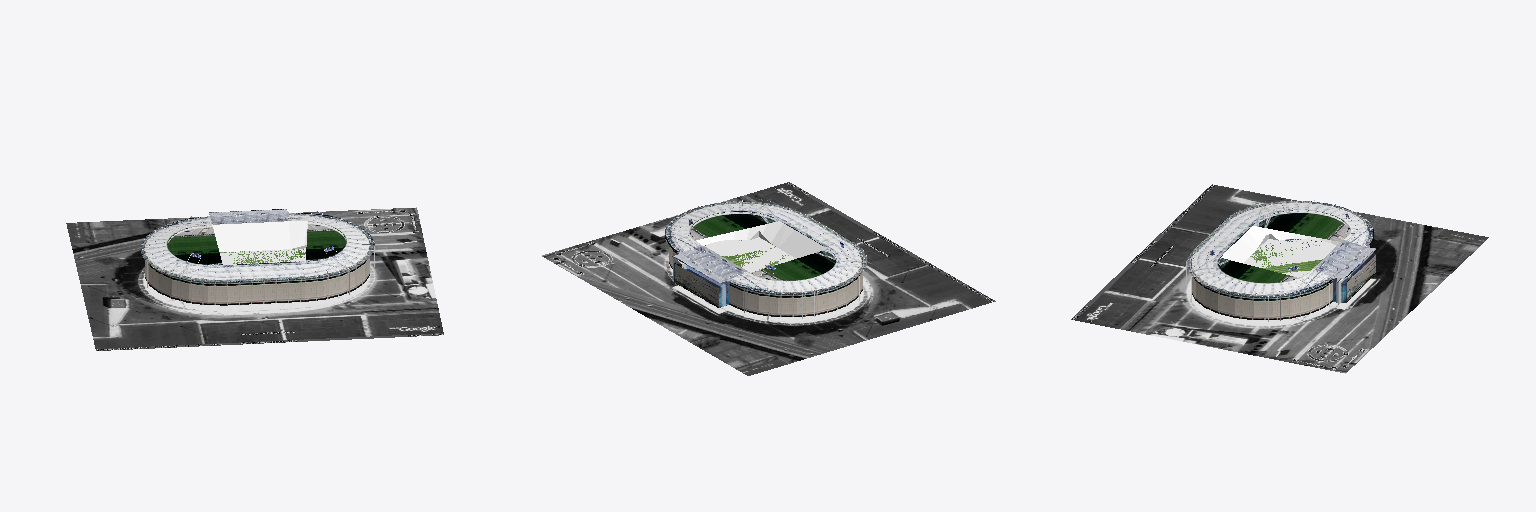
The picture shows the model from 3 angles: view 1: azimuth 30°, elevation 25°; view 2: azimuth 150°, elevation 25°; view 3: azimuth 270°, elevation 25°; orthographic projection.
Parts seen in each view (by area): view 1: Mesh1 Google_Earth_Snapshot Model, Mesh214 Model; view 2: Mesh1 Google_Earth_Snapshot Model, Mesh214 Model; view 3: Mesh1 Google_Earth_Snapshot Model, Mesh214 Model.
Boxes of the visible parts, <box> form: Mesh1 Google_Earth_Snapshot Model: <box>66,207,443,350</box>; Mesh214 Model: <box>141,209,374,305</box>; Mesh1 Google_Earth_Snapshot Model: <box>542,182,995,375</box>; Mesh214 Model: <box>665,201,866,316</box>; Mesh1 Google_Earth_Snapshot Model: <box>1071,184,1488,373</box>; Mesh214 Model: <box>1187,201,1375,319</box>.
Size of the model in its own units: 422 by 47.69 by 395.
Materials: 18 (17 with a texture image).